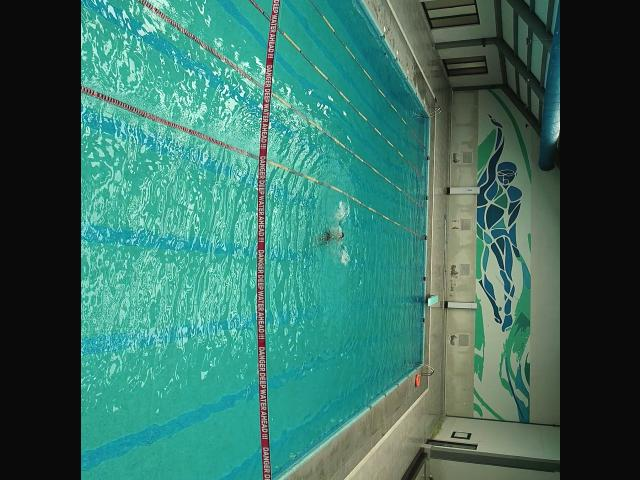drowning: (314, 222, 347, 250)
